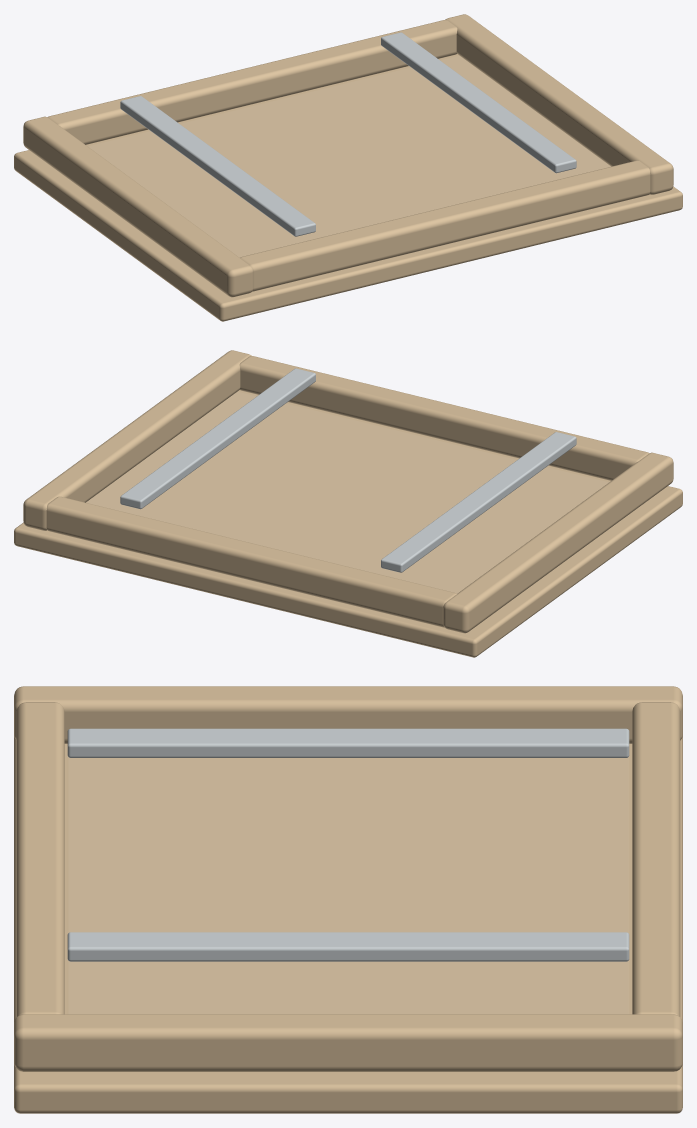
The model's file is camera-repair-and-darkroom-laboratory-contact-printing-aa023732__31807.glb.
The picture shows the model from 3 angles, top to bottom: view 1: azimuth 30°, elevation 25°; view 2: azimuth 150°, elevation 25°; view 3: azimuth 270°, elevation 25°; orthographic projection. The views are drawn at different scales.
Visible parts, largest first — view 1: contact-printing-frame; view 2: contact-printing-frame; view 3: contact-printing-frame.
Part boxes in pixels (box(x1,y1,x2,y2)): contact-printing-frame: box(14, 14, 682, 321); contact-printing-frame: box(14, 350, 682, 657); contact-printing-frame: box(14, 686, 682, 1113).
Bounding box in the file's own units: 0.32 × 0.04 × 0.25.
